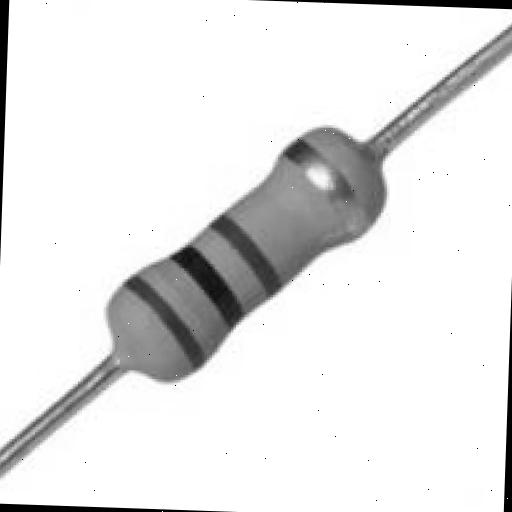RESISTOR: (72, 63, 440, 446)
